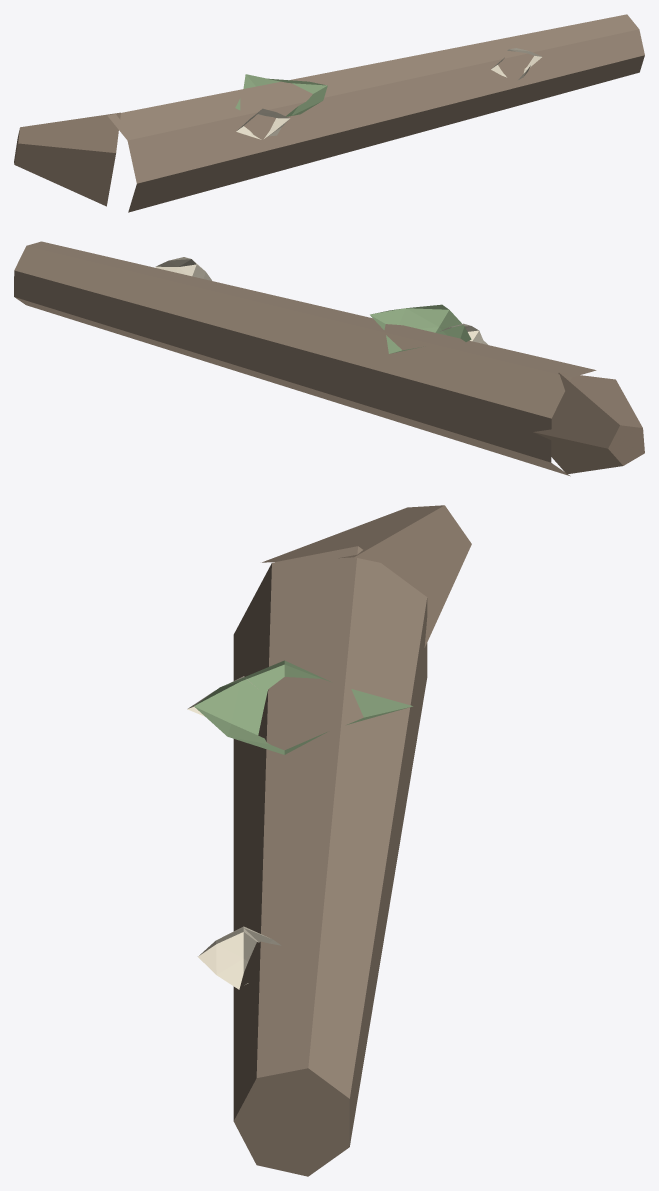
Rendered from log_v09.glb.
The picture shows the model from 3 angles, top to bottom: view 1: azimuth 30°, elevation 25°; view 2: azimuth 150°, elevation 25°; view 3: azimuth 270°, elevation 25°; orthographic projection. The views are drawn at different scales.
Visible parts, largest first — view 1: lod0; view 2: lod0; view 3: lod0.
Part boxes in pixels (<box>): lod0: <box>14,14,644,212</box>; lod0: <box>14,241,644,476</box>; lod0: <box>187,505,471,1176</box>.
Size of what is drawn, in the model's own units: 3.2 by 0.521 by 0.671.
